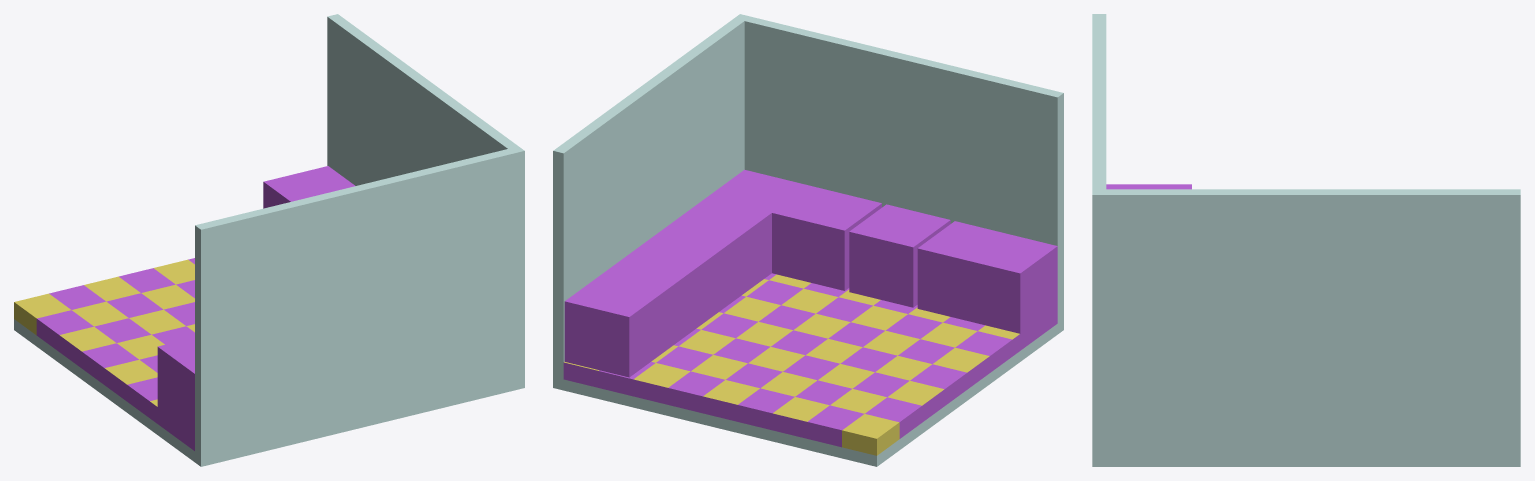
The model's file is basickitchen.dae.
3 views of the same model, side by side, from view 1: azimuth 30°, elevation 25°; view 2: azimuth 150°, elevation 25°; view 3: azimuth 270°, elevation 25° (orthographic). The views are drawn at different scales.
Visible parts, largest first — view 1: Plane, Plane.001, Plane.002; view 2: Plane, Plane.002, Plane.001; view 3: Plane, Plane.002.
Boxes of the visible parts, x1=… form: Plane: x1=14, y1=14, x2=524, y2=466; Plane.001: x1=14, y1=258, x2=194, y2=450; Plane.002: x1=157, y1=166, x2=355, y2=433; Plane: x1=553, y1=14, x2=1063, y2=466; Plane.002: x1=564, y1=169, x2=1057, y2=377; Plane.001: x1=563, y1=273, x2=1057, y2=455; Plane: x1=1092, y1=14, x2=1520, y2=466; Plane.002: x1=1106, y1=184, x2=1191, y2=189.
Bounding box in the file's own units: 10 × 10 × 7.
